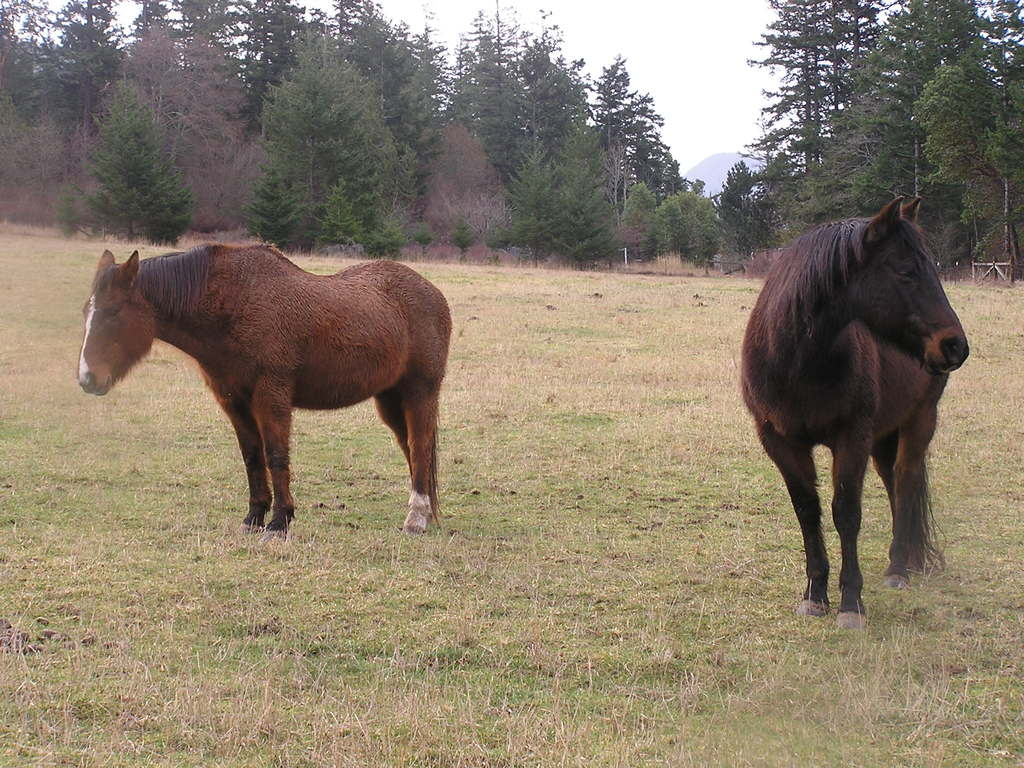horse: (76, 243, 454, 533), (740, 196, 971, 639)
